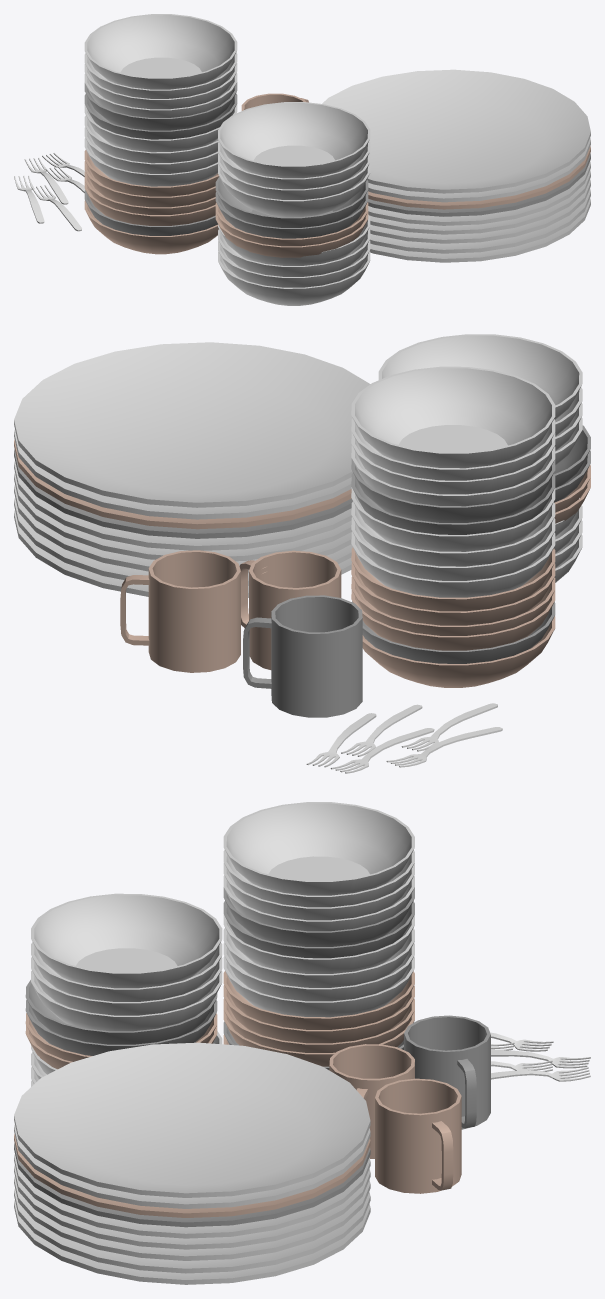
File: dishes6.gltf
3 renders of one model, top to bottom at view 1: azimuth 30°, elevation 25°; view 2: azimuth 150°, elevation 25°; view 3: azimuth 270°, elevation 25°, orthographic. The views are drawn at different scales.
Parts seen in each view (by area): view 1: dishes; view 2: dishes; view 3: dishes.
Boxes of the visible parts, x1=… form: dishes: x1=14, y1=14, x2=590, y2=305; dishes: x1=14, y1=334, x2=590, y2=773; dishes: x1=14, y1=802, x2=590, y2=1284.
Bounding box in the file's own units: 0.5535 × 0.2397 × 0.501.
